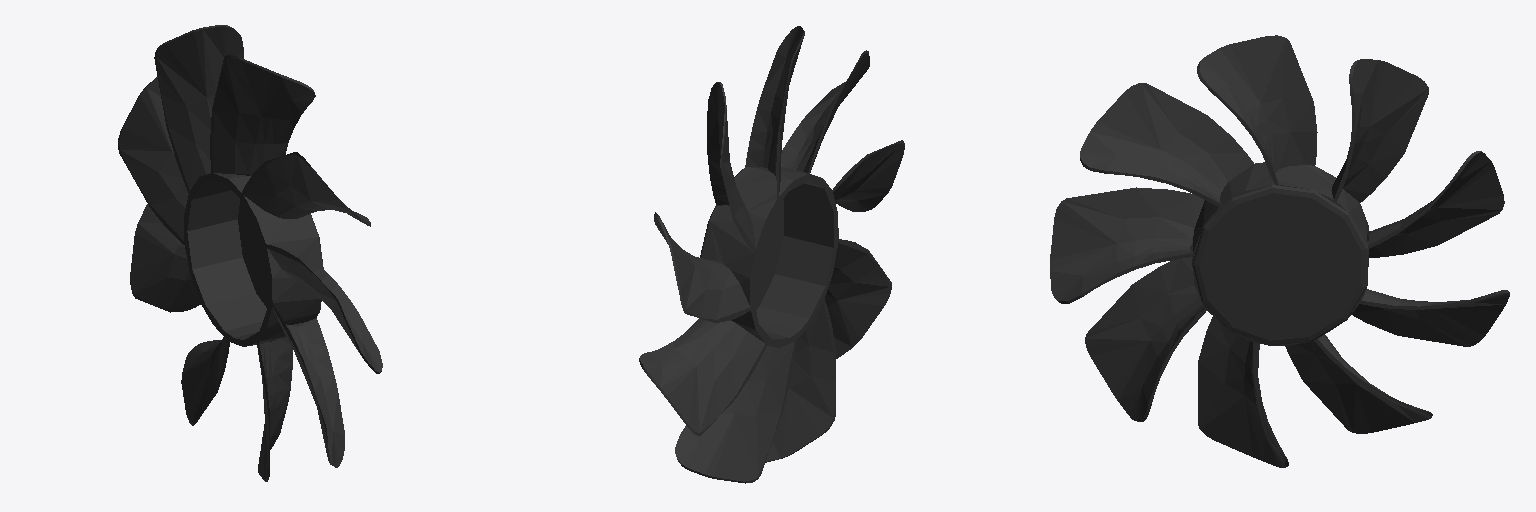
File: CW1_HFan.obj
3 views of the same model, side by side, from view 1: azimuth 30°, elevation 25°; view 2: azimuth 150°, elevation 25°; view 3: azimuth 270°, elevation 25° (orthographic).
Parts seen in each view (by area): view 1: CW1S_MODEL; view 2: CW1S_MODEL; view 3: CW1S_MODEL.
Part boxes in pixels (left/top/right/bottom): CW1S_MODEL: left=118, top=25, right=382, bottom=481; CW1S_MODEL: left=639, top=26, right=904, bottom=483; CW1S_MODEL: left=1050, top=35, right=1509, bottom=467.
Bounding box in the file's own units: 7.5 × 55.38 × 55.27.